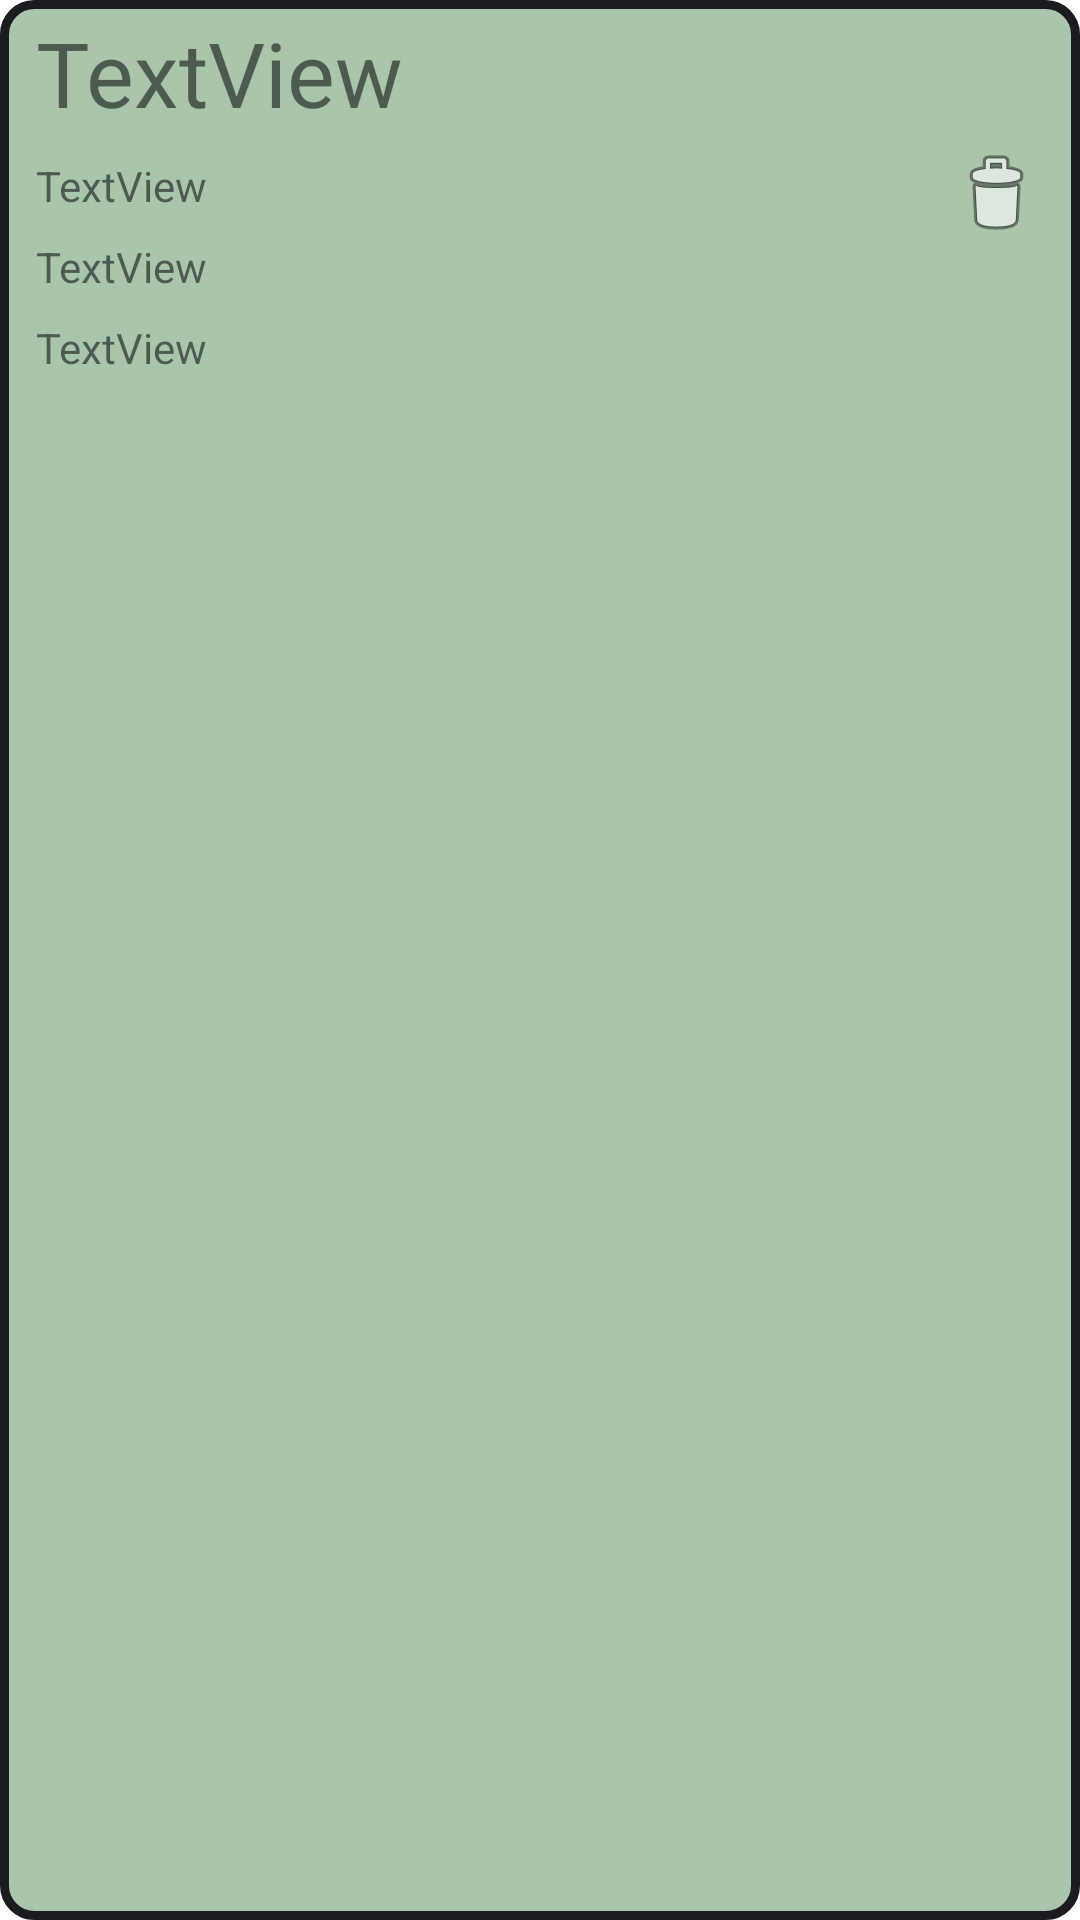

Icon click points for this 1080px×1920px phone screenshot, format (x,y):
delete: (996,192)
